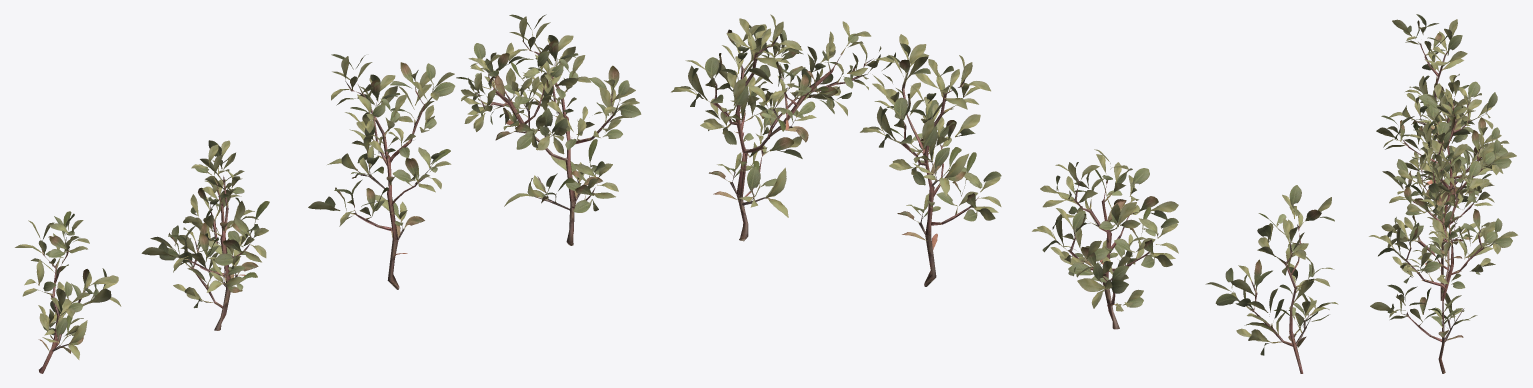
The model's file is shrub_04.glb.
3 views of the same model, side by side, from view 1: azimuth 30°, elevation 25°; view 2: azimuth 150°, elevation 25°; view 3: azimuth 270°, elevation 25° (orthographic). The views are drawn at different scales.
Visible parts, largest first — view 1: shrub_04_d_LOD0, shrub_04_c_LOD0, shrub_04_b_LOD0, shrub_04_a_LOD0; view 2: shrub_04_d_LOD0, shrub_04_c_LOD0, shrub_04_b_LOD0, shrub_04_a_LOD0; view 3: shrub_04_d_LOD0, shrub_04_c_LOD0, shrub_04_b_LOD0, shrub_04_a_LOD0.
Part boxes in pixels (x1=…): shrub_04_d_LOD0: x1=456, y1=14, x2=641, y2=245; shrub_04_c_LOD0: x1=308, y1=54, x2=455, y2=289; shrub_04_b_LOD0: x1=141, y1=140, x2=269, y2=330; shrub_04_a_LOD0: x1=15, y1=211, x2=121, y2=373; shrub_04_d_LOD0: x1=671, y1=14, x2=895, y2=241; shrub_04_c_LOD0: x1=860, y1=34, x2=1001, y2=286; shrub_04_b_LOD0: x1=1032, y1=149, x2=1178, y2=329; shrub_04_a_LOD0: x1=1205, y1=185, x2=1338, y2=373; shrub_04_d_LOD0: x1=1369, y1=142, x2=1517, y2=373; shrub_04_c_LOD0: x1=1382, y1=80, x2=1516, y2=300; shrub_04_b_LOD0: x1=1376, y1=74, x2=1509, y2=222; shrub_04_a_LOD0: x1=1389, y1=14, x2=1471, y2=143.
Size of the model in its own units: 0.7468 by 0.2804 by 0.1869.
1 material, 1 textured.
